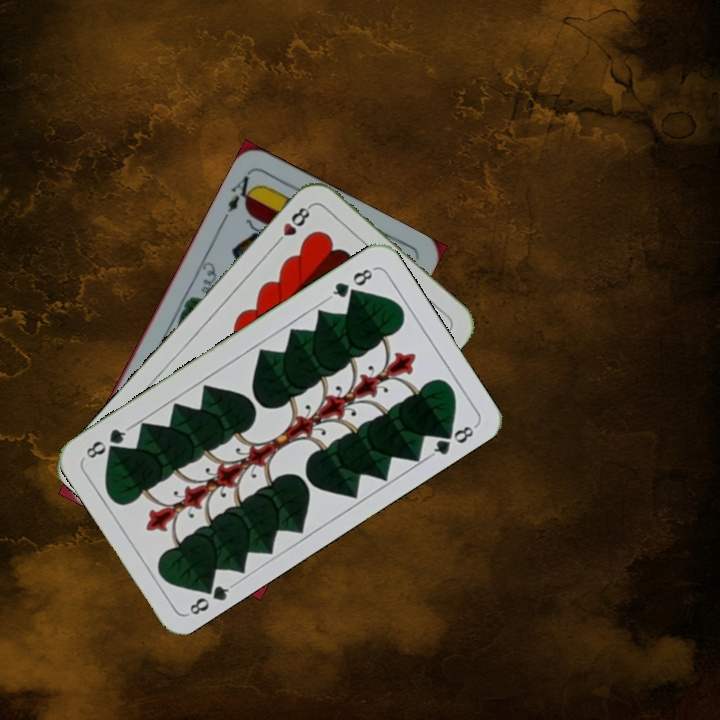EA: (223, 169, 259, 215)
G8: (184, 576, 237, 618), (325, 264, 377, 302)
H8: (270, 201, 314, 249)
